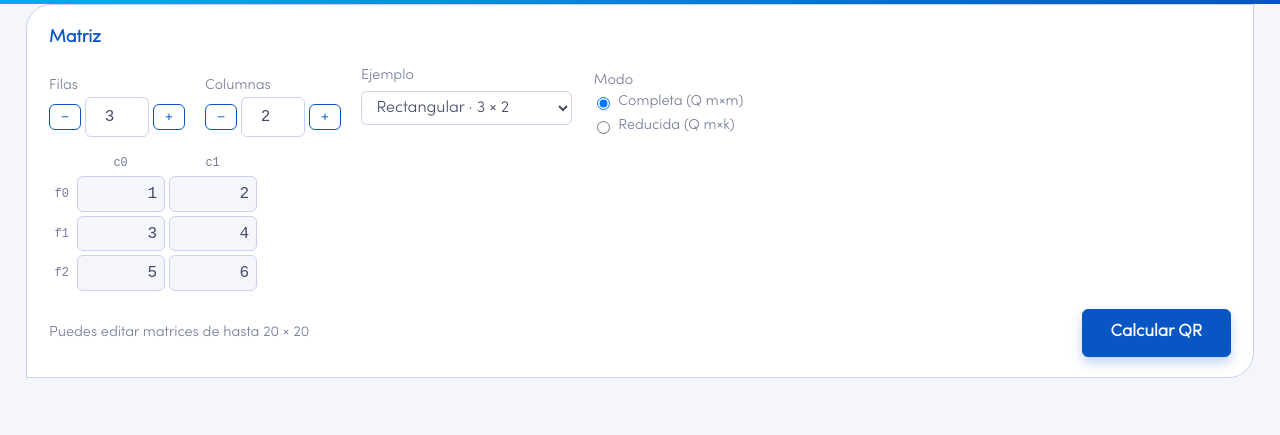
Test: MatrixEditor › grows and shrinks the grid from the steppers, keeping the edited values
Click the button named "Añadir fila" at [169, 117], box [153,104,185,130]
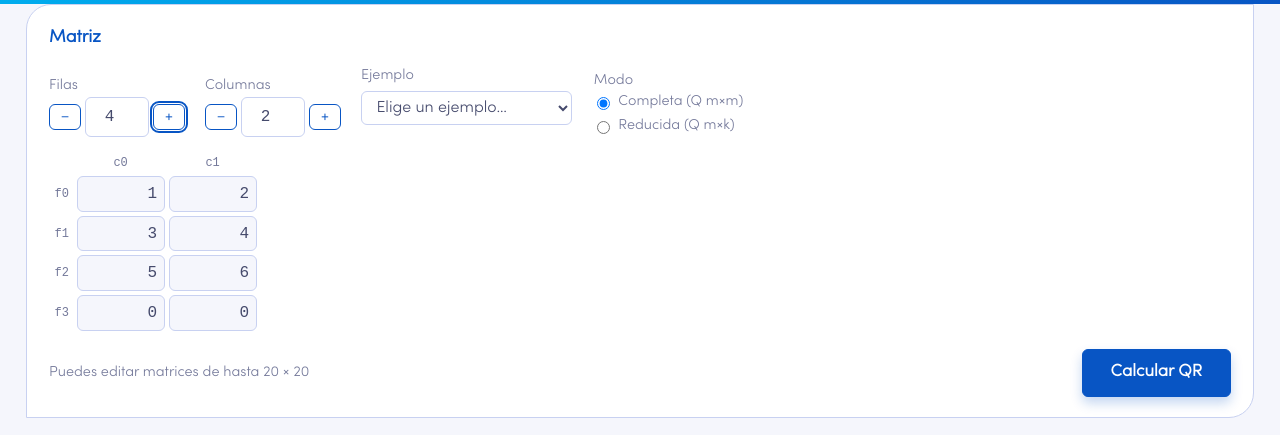
Now the number of fields named "Fila 0, columna 0" is 8
Now the field named "Fila 3, columna 0" holds "0", box [77,295,165,330]
Click the button named "Añadir columna" at [325, 117], box [309,104,341,130]
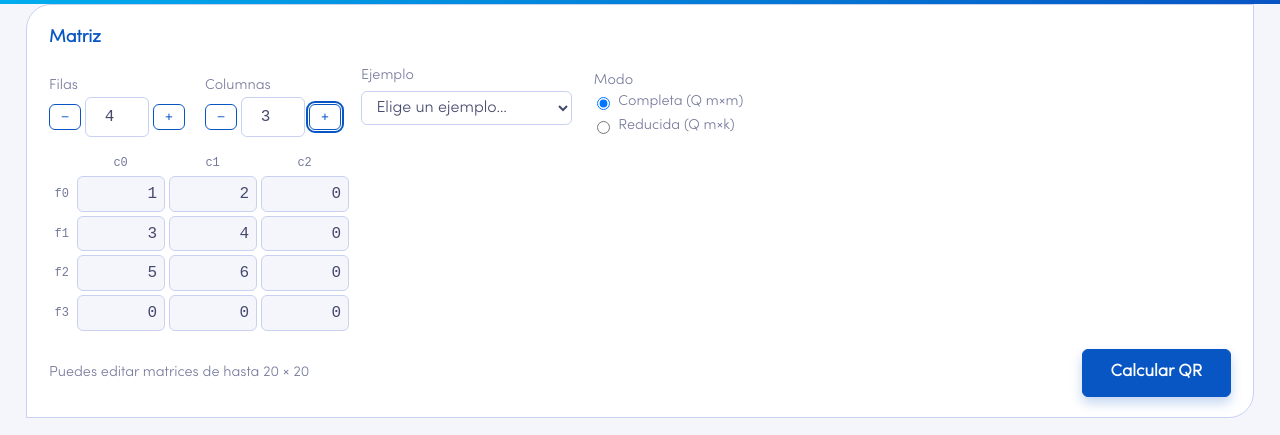
Now the number of fields named "Fila 0, columna 0" is 12
Click the button named "Quitar fila" at [65, 117], box [49,104,81,130]
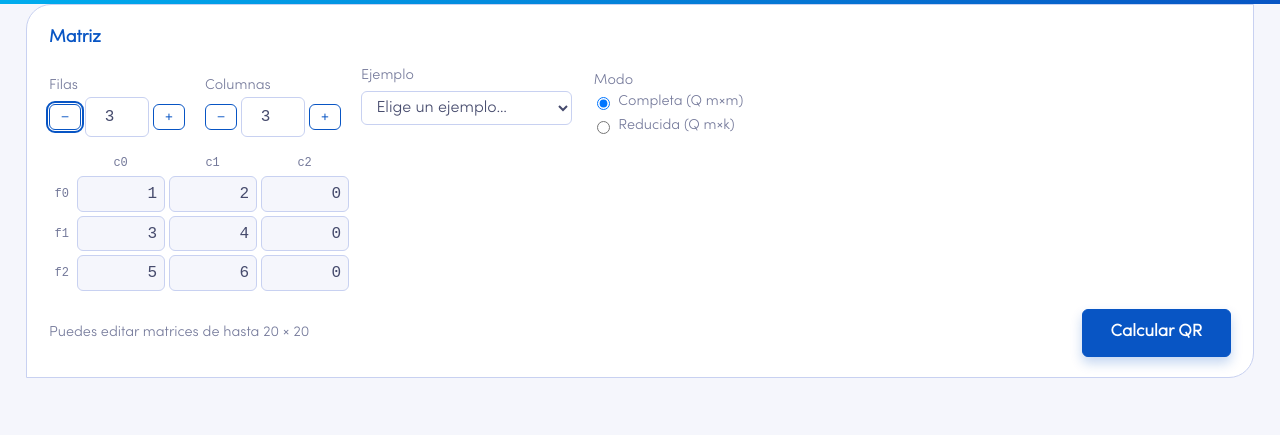
Expected: the field named "Fila 0, columna 1" holds "2", [169,176,257,212]
Now the number of fields named "Fila 0, columna 0" is 9
